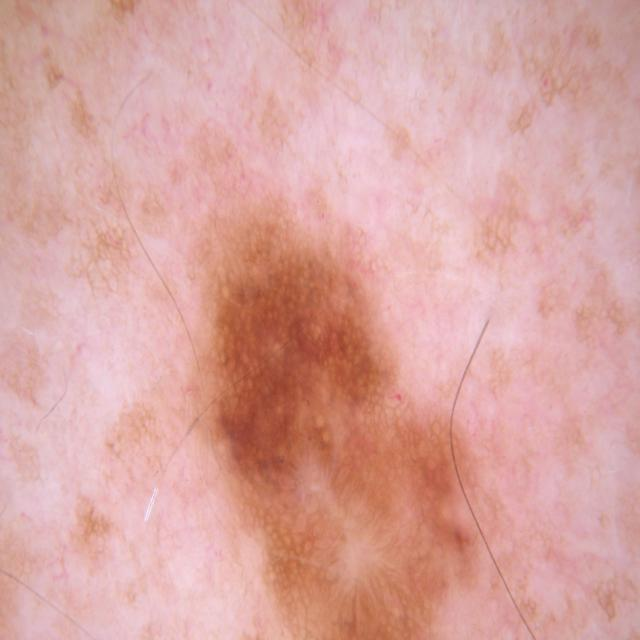Melanoma: (172, 215, 537, 640)
